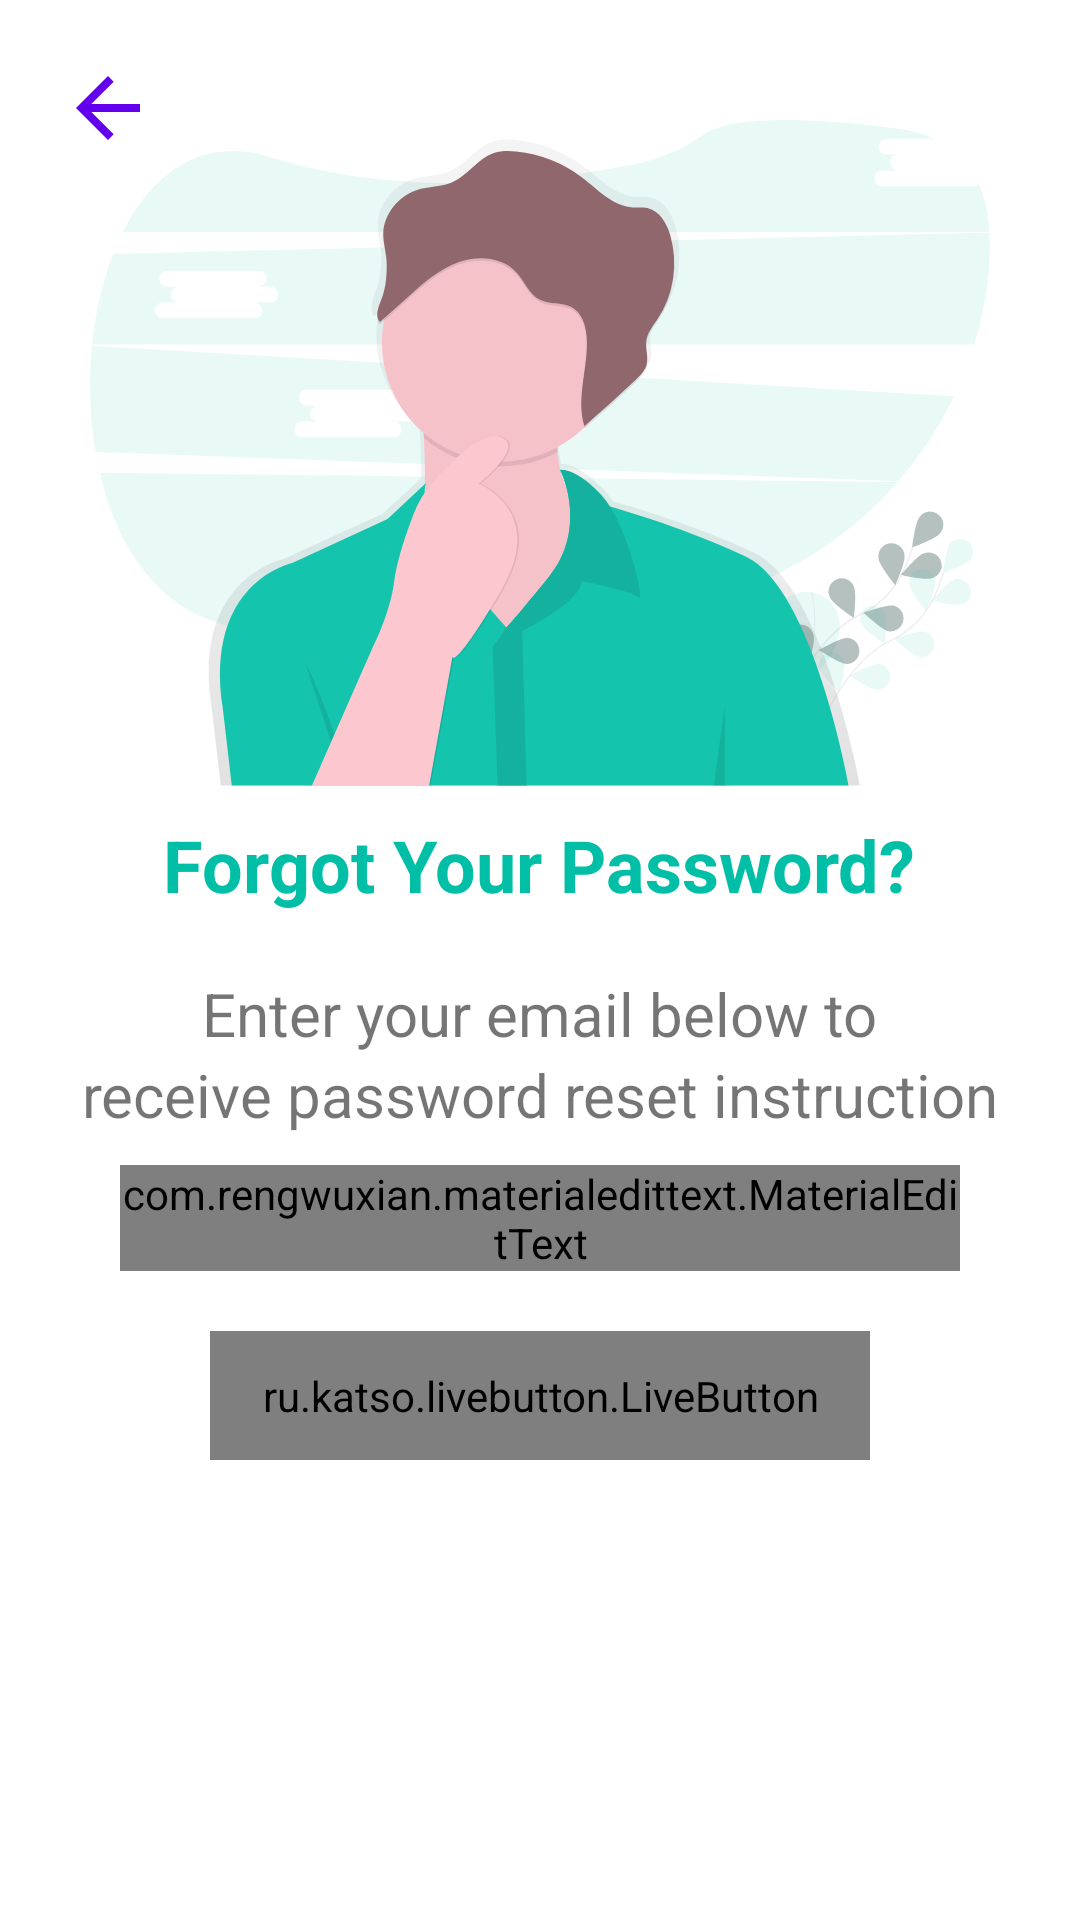

Point at icon controls on the screen. Image size 1080px x 1920px, points as (x,y).
back arrow: (108,108)
